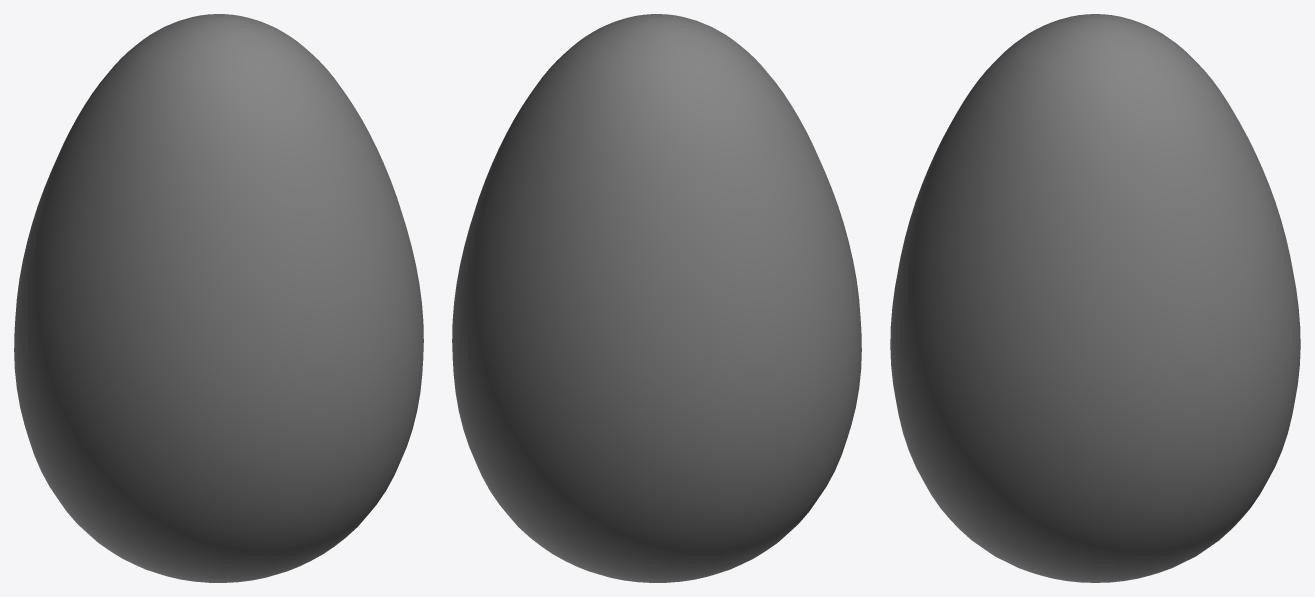
The model's file is egg_2.glb.
3 views of the same model, side by side, from view 1: azimuth 30°, elevation 25°; view 2: azimuth 150°, elevation 25°; view 3: azimuth 270°, elevation 25° (orthographic).
Visible parts, largest first — view 1: node_id8; view 2: node_id8; view 3: node_id8.
Boxes of the visible parts, bbox=[...] form: node_id8: bbox=[14, 14, 423, 582]; node_id8: bbox=[452, 14, 861, 582]; node_id8: bbox=[890, 14, 1300, 582].
Size of the model in its own units: 0.3527 by 0.512 by 0.3527.
Materials: 1 (1 with a texture image).
